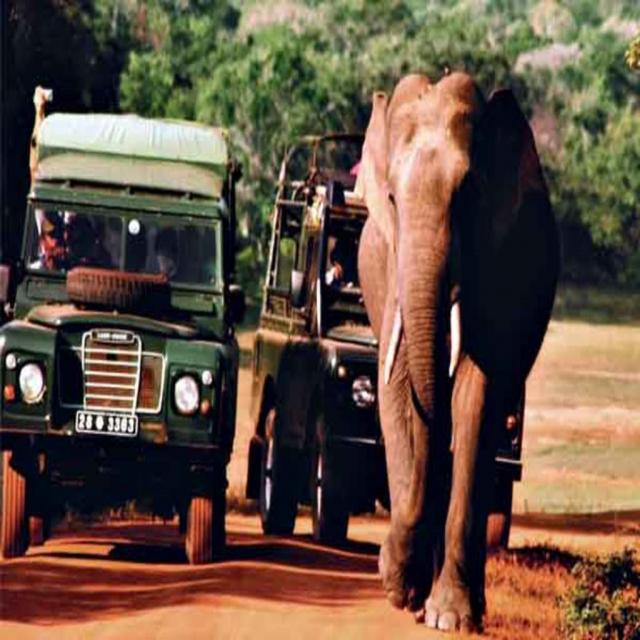Elephant: (343, 62, 556, 630)
